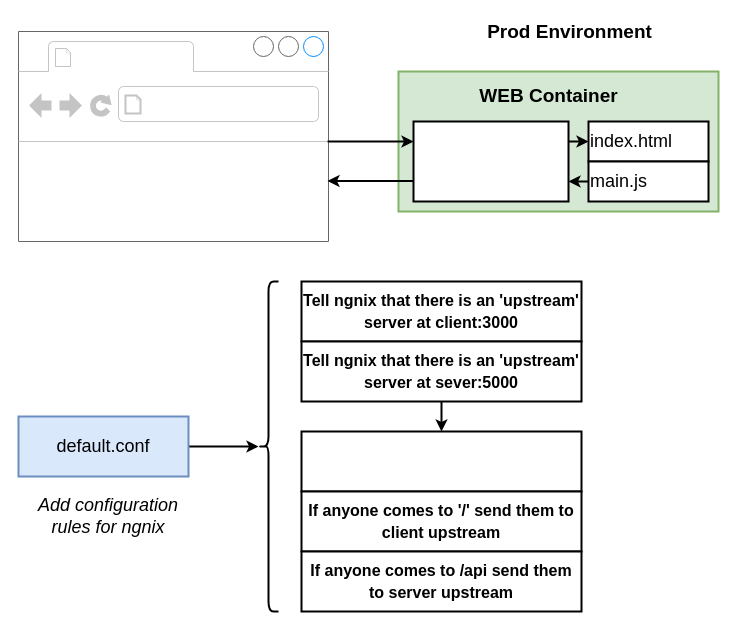
This 736x638 diagram has some shape labels left out. The centre of each missing label's shape, as x and y in pixels:
https://www.draw.io: (273,104)
Listen on port 80: (441,461)
ngnix: (490,161)
Page 1: (133,56)
